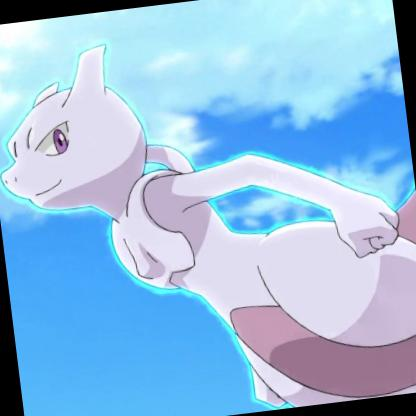Mewtwo: (1, 1, 416, 377)
